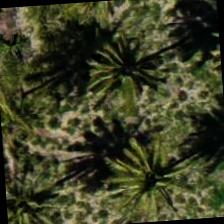Kelapa_Sawit: (100, 126, 196, 222), (78, 38, 174, 134), (0, 42, 88, 139), (3, 151, 64, 223)
